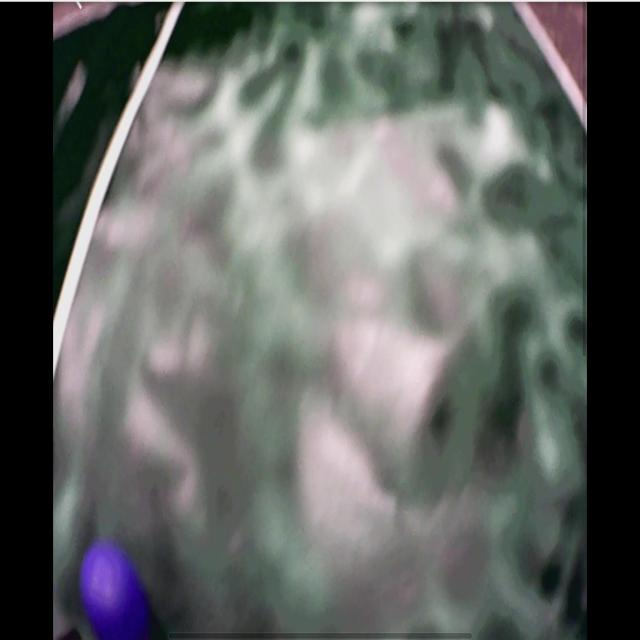ball: (83, 546, 142, 640)
